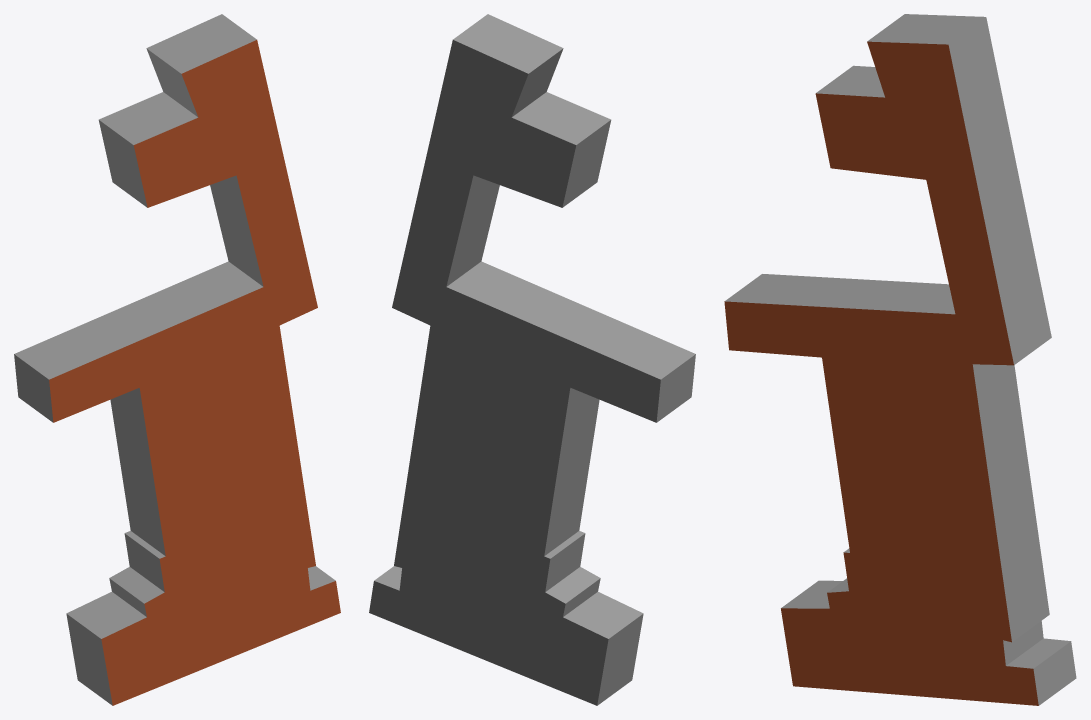
File: construction_2724_assumed_A_Casa_h6m.obj
3 renders of one model, left to right at view 1: azimuth 30°, elevation 25°; view 2: azimuth 150°, elevation 25°; view 3: azimuth 330°, elevation 25°, orthographic. The views are drawn at different scales.
Visible parts, largest first — view 1: construction_2724_assumed_A_Casa; view 2: construction_2724_assumed_A_Casa; view 3: construction_2724_assumed_A_Casa.
Boxes of the visible parts, <box> form: construction_2724_assumed_A_Casa: <box>14,14,340,705</box>; construction_2724_assumed_A_Casa: <box>369,14,695,705</box>; construction_2724_assumed_A_Casa: <box>724,14,1076,705</box>.
Size of the model in its own units: 28.83 by 59.56 by 6.
